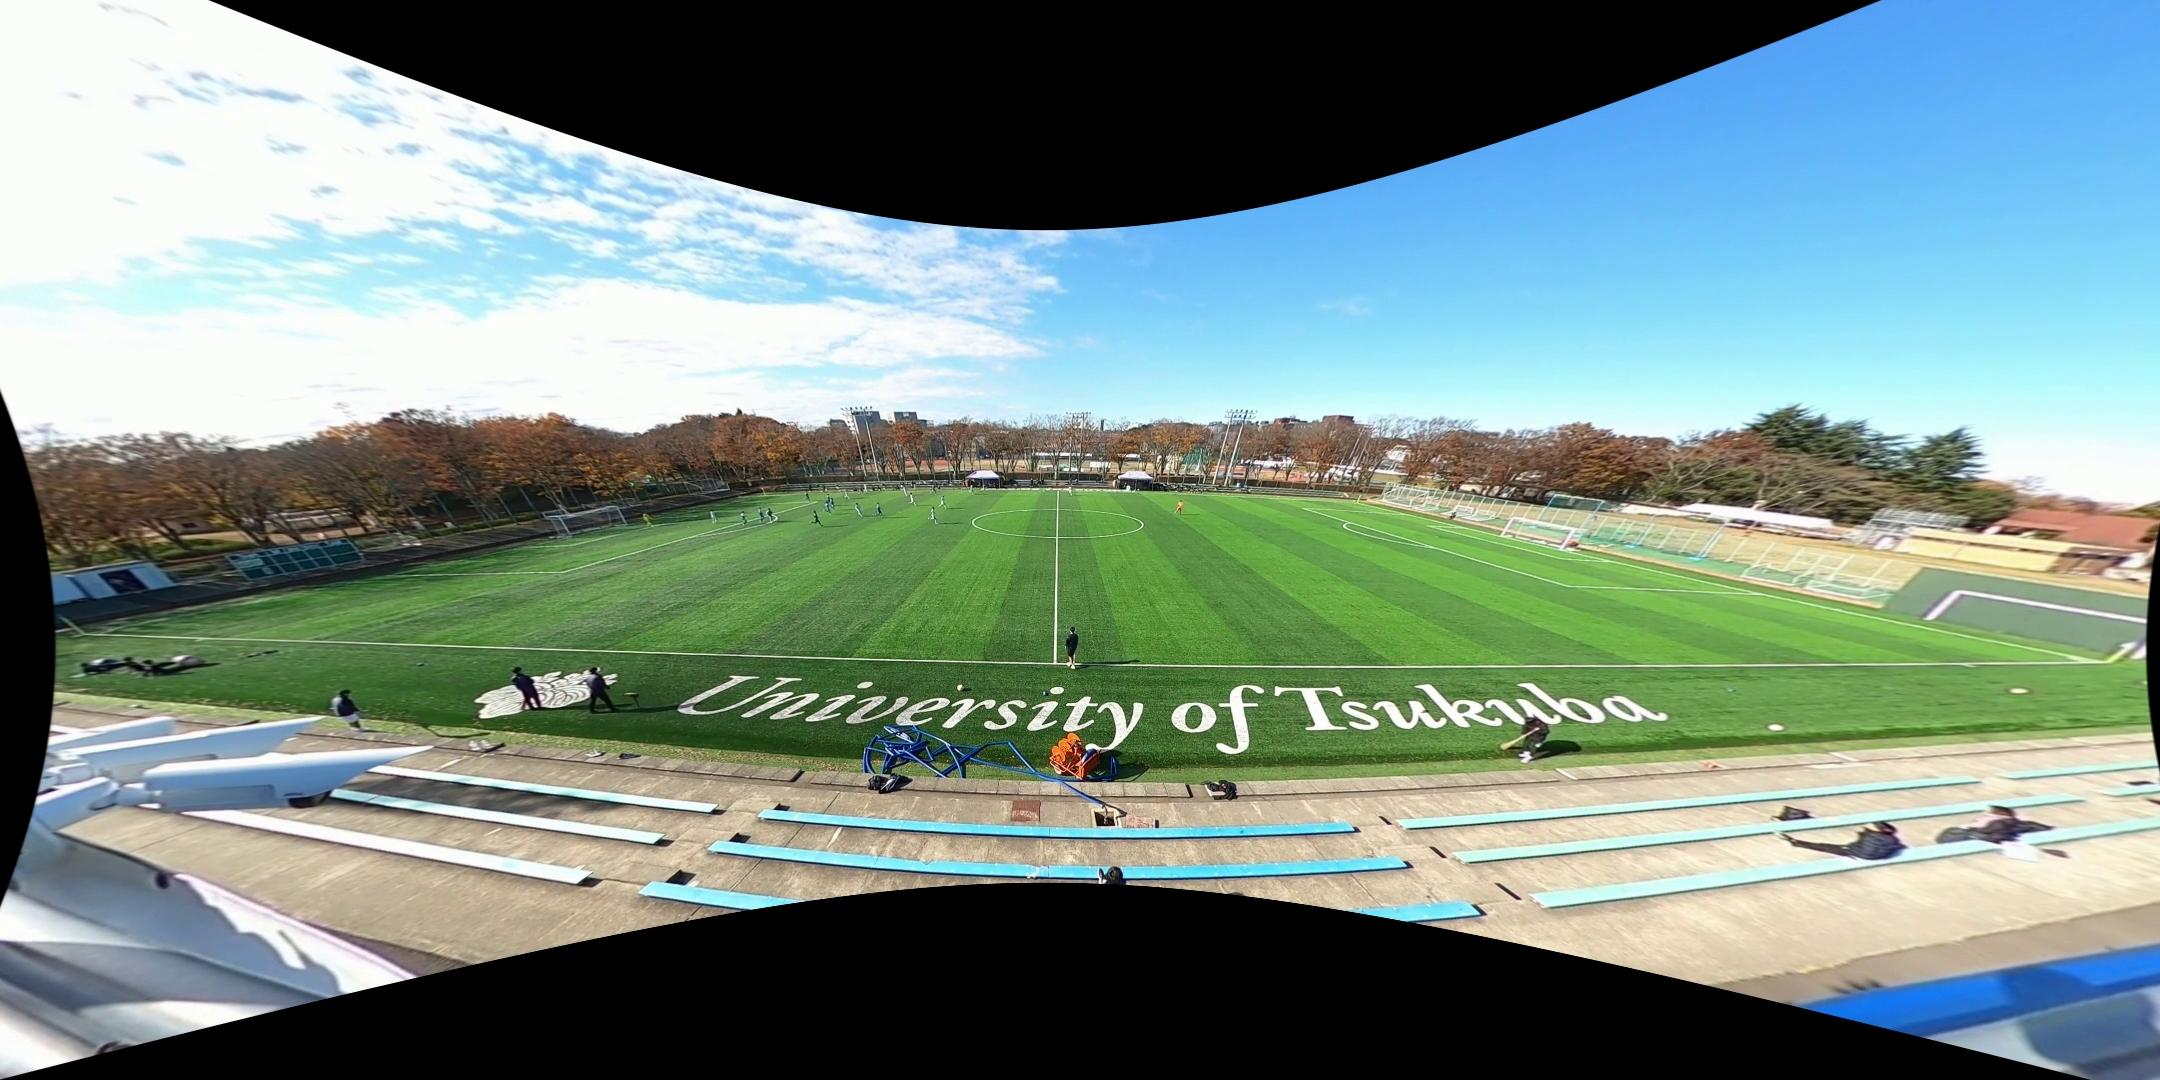person: (1065, 625, 1083, 669), (809, 510, 825, 527), (1173, 498, 1185, 517), (928, 506, 940, 525), (642, 511, 654, 529), (872, 501, 884, 518), (938, 494, 949, 511), (757, 506, 766, 523), (908, 492, 918, 507), (1066, 484, 1076, 498), (766, 507, 774, 524), (855, 503, 864, 518), (740, 511, 749, 526), (823, 501, 832, 515), (710, 509, 718, 524), (804, 490, 812, 504), (825, 494, 832, 508), (969, 483, 976, 496), (844, 487, 851, 500), (930, 484, 938, 495), (901, 484, 908, 496), (830, 497, 836, 510)
sports ball: (2008, 684, 2033, 698), (1767, 720, 1787, 735), (956, 682, 967, 692)
